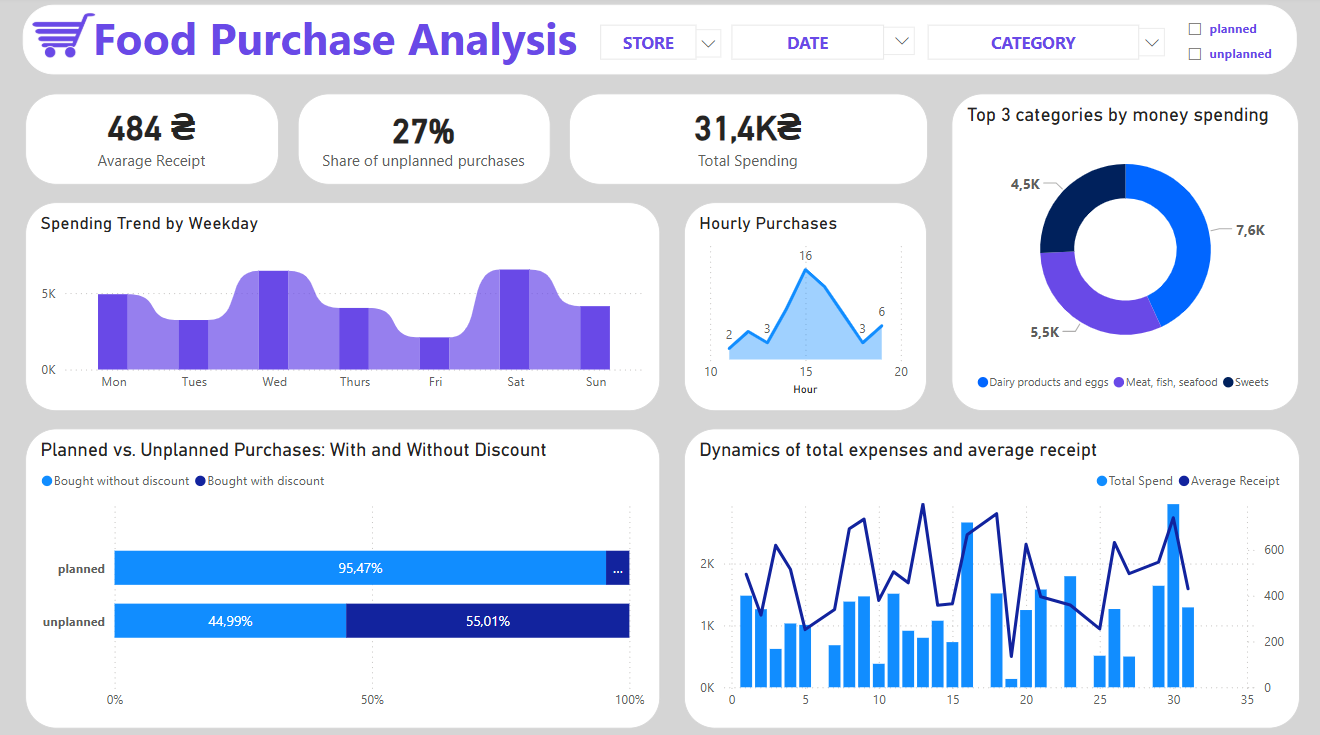

The page's visual inventory and layout, read from the dashboard file:
{"tool":"powerbi","page":{"name":"Food Purchasing Report","canvas":[1280,720],"ordinal":0},"visuals":[{"type":"shape","box":[22.9,8.4,1229.4,67.6],"z":0},{"type":"donutChart","title":"Top 3 categories by money spending","fields":{"Category":["categories.category_name"],"Y":["Sum(purchases.Total Spending)"]},"box":[919.3,94.1,335.4,306.4],"z":1000},{"type":"lineClusteredColumnComboChart","title":"Dynamics of total expenses and average receipt","fields":{"Y2":["purchases.AVG receipt"],"Y":["Sum(purchases.Total Spending)"],"Category":["receipts.transaction_date.Варіація.Ієрархія дат.Місяць","receipts.transaction_date.Варіація.Ієрархія дат.День"]},"box":[661.1,417.4,594.8,289.5],"z":2000},{"type":"hundredPercentStackedBarChart","title":"Planned vs. Unplanned Purchases: With and Without Discount","fields":{"Category":["purchases.purchase_planning"],"Y":["purchases.Bought without discount","purchases.Bought with discount"]},"box":[25.3,417.4,612.9,289.5],"z":3000},{"type":"ribbonChart","title":"Spending Trend by Weekday","fields":{"Y":["Sum(purchases.Total Spending)"],"Category":["receipts.Day of week"]},"box":[25,198.8,612.5,201.2],"z":4000},{"type":"areaChart","title":"Hourly Purchases","fields":{"Category":["receipts.Hour"],"Y":["CountNonNull(receipts.receipt_number)"]},"box":[661.1,199.1,234,201.5],"z":5000},{"type":"cardVisual","fields":{"Data":["purchases.AVG receipt"]},"box":[288.3,94.1,240.1,88.1],"z":6000},{"type":"cardVisual","fields":{"Data":["Count(receipts.receipt_number)"]},"box":[25.3,94.1,240.1,88.1],"z":7000},{"type":"cardVisual","fields":{"Data":["Sum(purchases.Total Spending)"]},"box":[550.1,94.1,346.2,88.1],"z":8000},{"type":"textbox","box":[73.6,6,518.8,94.1],"z":9000},{"type":"image","box":[36.2,0,75,76.2],"z":10000},{"type":"slicer","fields":{"Values":["categories.category_name"]},"box":[790.2,20.5,258.2,44.6],"z":11000},{"type":"textbox","box":[775.7,26.5,240.1,33.8],"z":12000},{"type":"slicer","fields":{"Values":["receipts.store_name"]},"box":[639.4,19.3,126.7,43.4],"z":13000},{"type":"textbox","box":[640,26.2,92.5,33.8],"z":14000},{"type":"slicer","fields":{"Values":["receipts.Date.Варіація.Ієрархія дат.Рік","receipts.Date.Варіація.Ієрархія дат.Місяць"]},"box":[1048.4,19.3,187,48.3],"z":15000},{"type":"textbox","box":[1055.6,26.5,147.2,33.8],"z":16000}]}

Visuals, with their boxes in screenshot pixels (x1, y1, x2, y2), scaled from the page's 1280x720 canvas onto the 1320x735 screenshot:
shape: pyautogui.locateOnScreen(24, 9, 1291, 78)
"Top 3 categories by money spending" donutChart: pyautogui.locateOnScreen(948, 96, 1294, 409)
"Dynamics of total expenses and average receipt" lineClusteredColumnComboChart: pyautogui.locateOnScreen(682, 426, 1295, 722)
"Planned vs. Unplanned Purchases: With and Without Discount" hundredPercentStackedBarChart: pyautogui.locateOnScreen(26, 426, 658, 722)
"Spending Trend by Weekday" ribbonChart: pyautogui.locateOnScreen(26, 203, 657, 408)
"Hourly Purchases" areaChart: pyautogui.locateOnScreen(682, 203, 923, 409)
cardVisual - purchases.AVG receipt: pyautogui.locateOnScreen(297, 96, 545, 186)
cardVisual - Count(receipts.receipt_number): pyautogui.locateOnScreen(26, 96, 274, 186)
cardVisual - Sum(purchases.Total Spending): pyautogui.locateOnScreen(567, 96, 924, 186)
textbox: pyautogui.locateOnScreen(76, 6, 611, 102)
image: pyautogui.locateOnScreen(37, 0, 115, 78)
slicer - categories.category_name: pyautogui.locateOnScreen(815, 21, 1081, 66)
textbox: pyautogui.locateOnScreen(800, 27, 1048, 62)
slicer - receipts.store_name: pyautogui.locateOnScreen(659, 20, 790, 64)
textbox: pyautogui.locateOnScreen(660, 27, 755, 61)
slicer - receipts.Date.Варіація.Ієрархія дат.Рік x receipts.Date.Варіація.Ієрархія дат.Місяць: pyautogui.locateOnScreen(1081, 20, 1274, 69)
textbox: pyautogui.locateOnScreen(1089, 27, 1240, 62)
